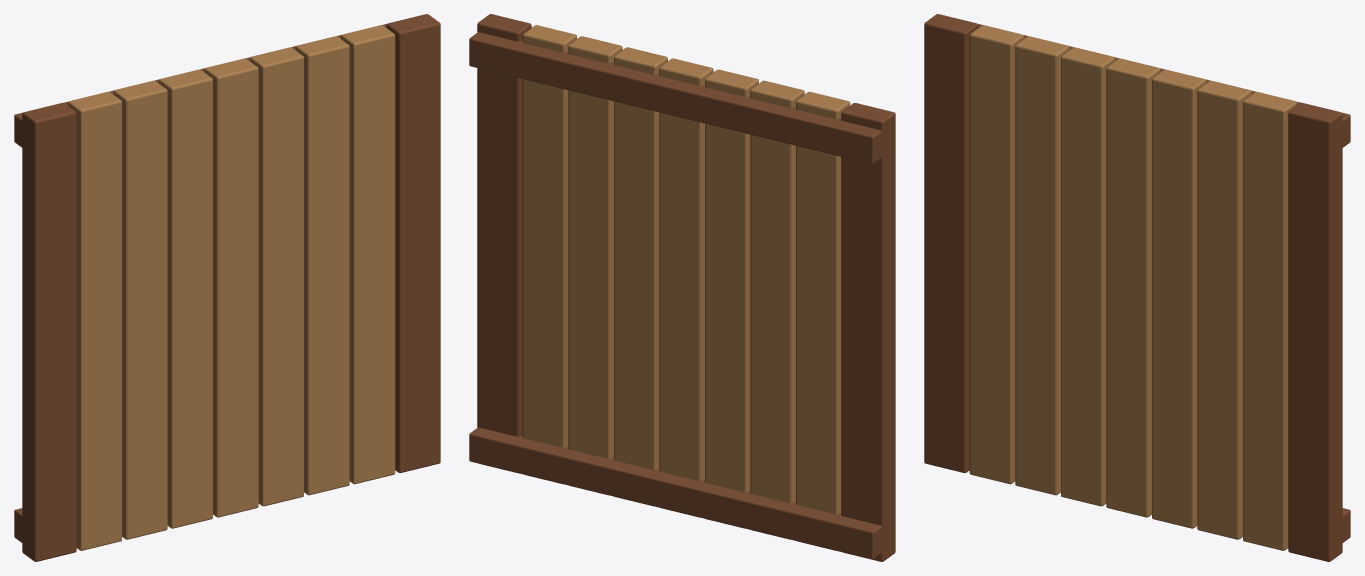
File: wall.glb
3 renders of one model, left to right at view 1: azimuth 30°, elevation 25°; view 2: azimuth 150°, elevation 25°; view 3: azimuth 330°, elevation 25°, orthographic.
Parts seen in each view (by area): view 1: wall; view 2: wall; view 3: wall.
Part boxes in pixels (<box>): wall: <box>14,14,440,561</box>; wall: <box>469,14,895,561</box>; wall: <box>924,14,1350,561</box>.
Bounding box in the file's own units: 2.41 × 2.5 × 0.23.
